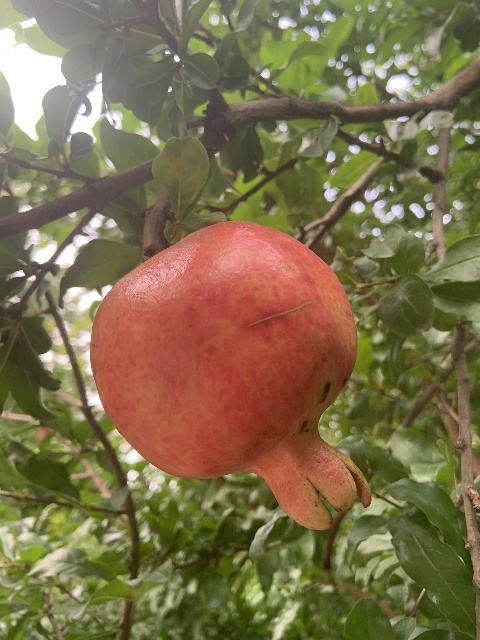ripe: (89, 220, 371, 531)
